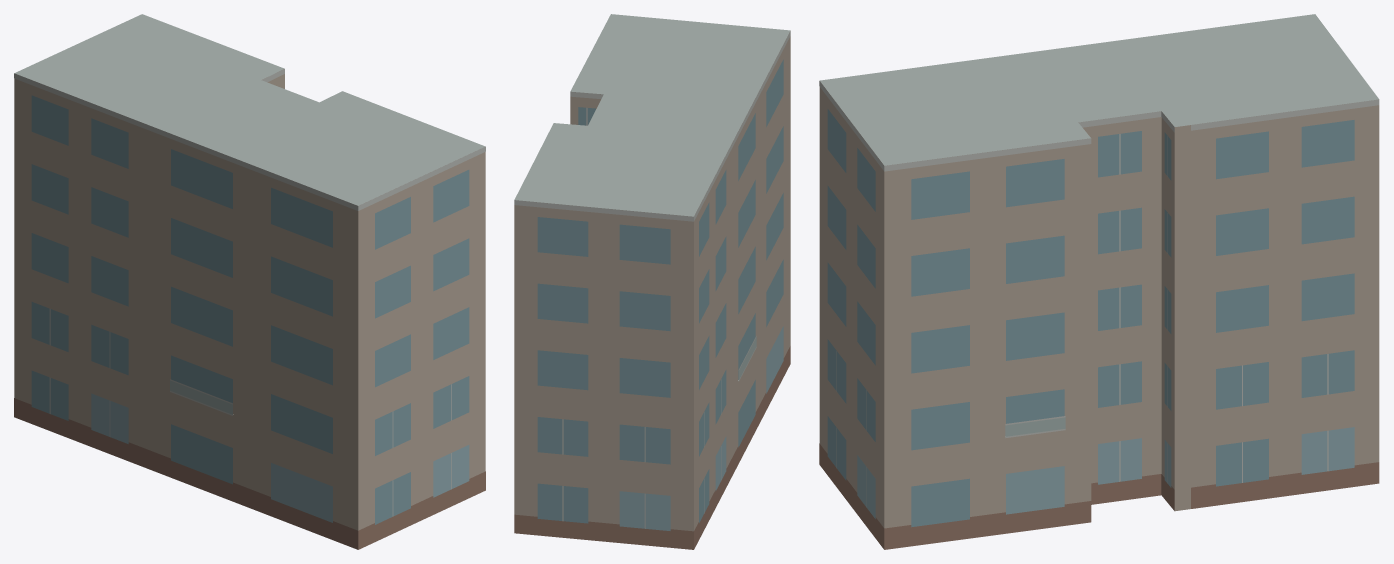
Rendered from survey-upis-32987382.glb.
The picture shows the model from 3 angles, left to right: view 1: azimuth 30°, elevation 25°; view 2: azimuth 150°, elevation 25°; view 3: azimuth 270°, elevation 25°; orthographic projection. The views are drawn at different scales.
Parts seen in each view (by area): view 1: survey-upis-32987382.tmp; view 2: survey-upis-32987382.tmp; view 3: survey-upis-32987382.tmp.
Boxes of the visible parts, x1,y1,x2,y2 form: survey-upis-32987382.tmp: [14, 14, 485, 549]; survey-upis-32987382.tmp: [514, 14, 790, 549]; survey-upis-32987382.tmp: [819, 14, 1379, 549].
Bounding box in the file's own units: 13.74 × 16.2 × 21.41.
